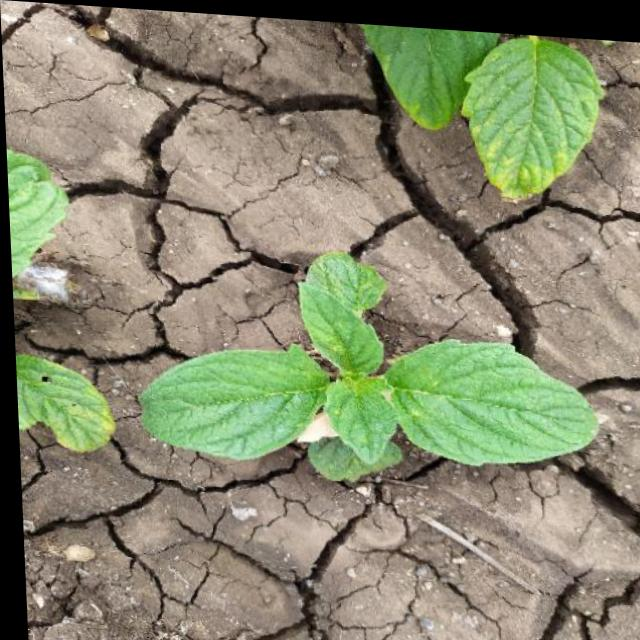crop: (132, 221, 616, 501)
